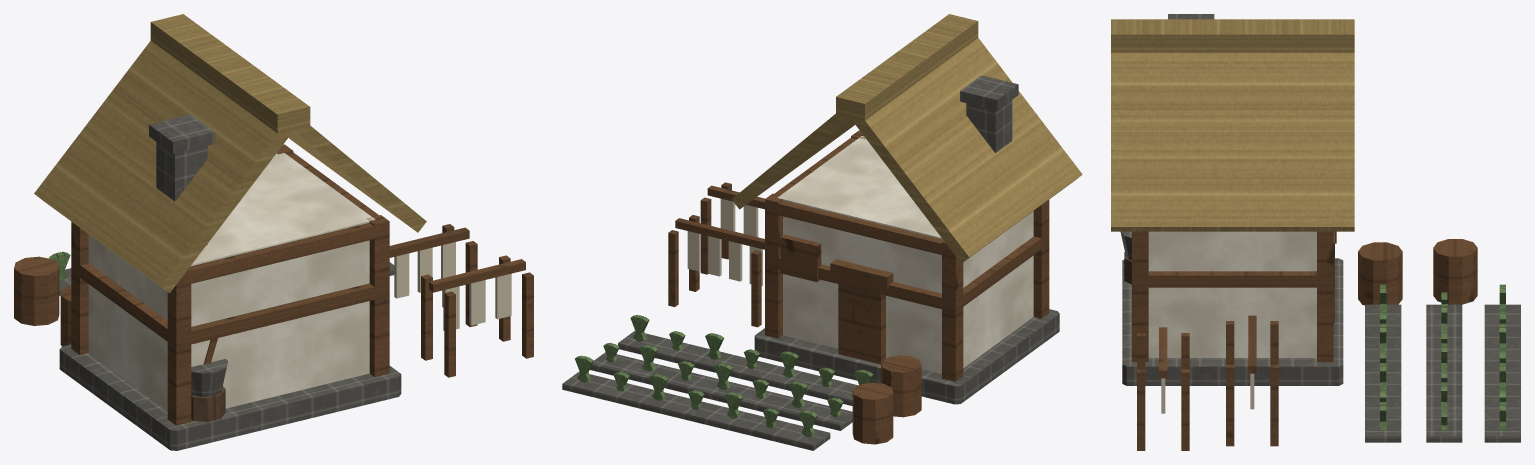
The model's file is herbalist.gltf.
3 views of the same model, side by side, from view 1: azimuth 30°, elevation 25°; view 2: azimuth 150°, elevation 25°; view 3: azimuth 270°, elevation 25° (orthographic). The views are drawn at different scales.
Visible parts, largest first — view 1: Herbalist; view 2: Herbalist; view 3: Herbalist.
Part boxes in pixels (left/top/right/bottom): Herbalist: left=14, top=14, right=533, bottom=450; Herbalist: left=562, top=14, right=1082, bottom=450; Herbalist: left=1111, top=14, right=1520, bottom=450.
Size of the model in its own units: 3.11 by 2.42 by 2.94.
Materials: 12 (10 with a texture image).
